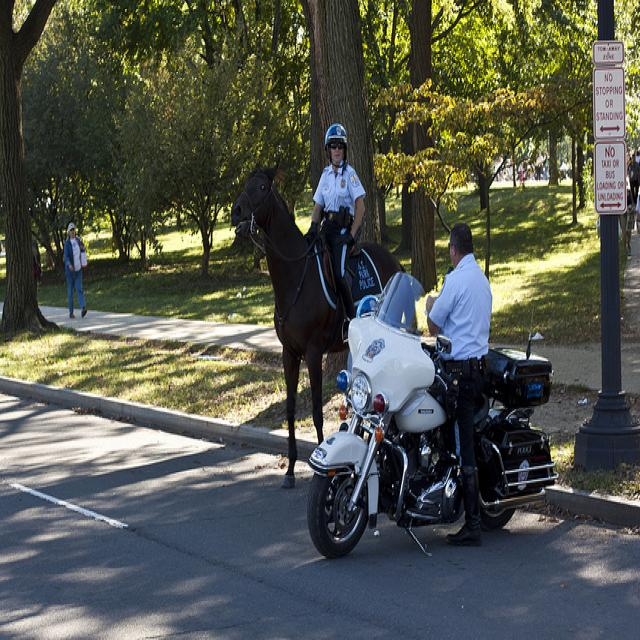motor: (309, 275, 560, 564)
